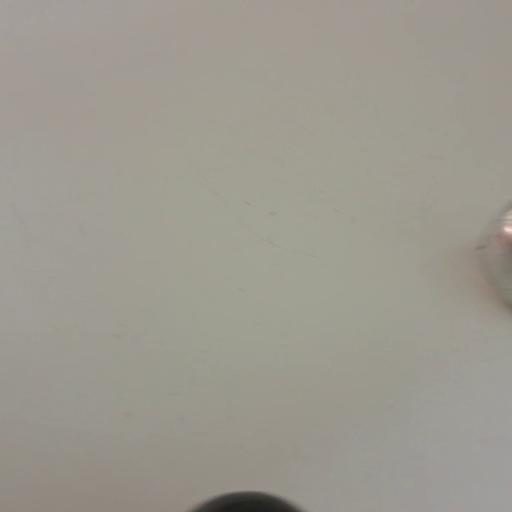alive: (475, 197, 511, 315)
dead: (180, 490, 308, 512)
